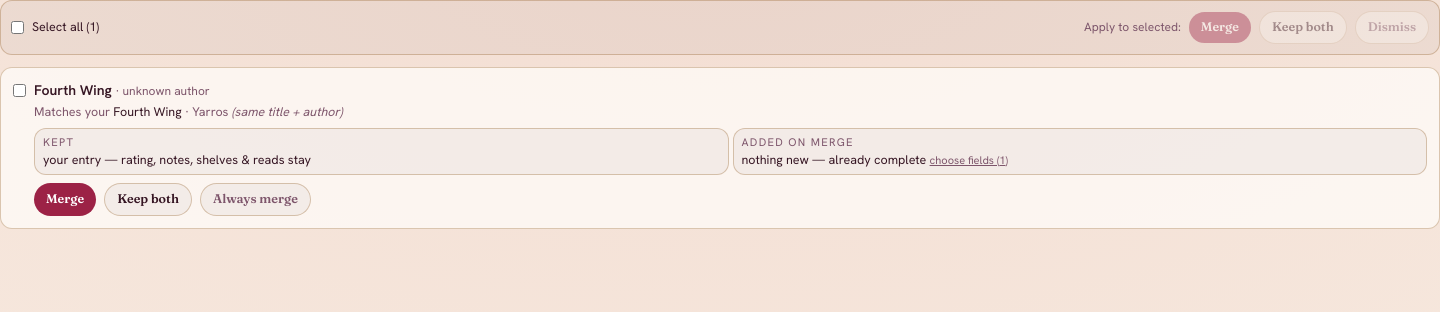
the merge field picker › offers a contested field as an UNCHECKED replace row, stating both values
Click the text "choose fields (1)" at (964, 160), box [930,153,1008,167]
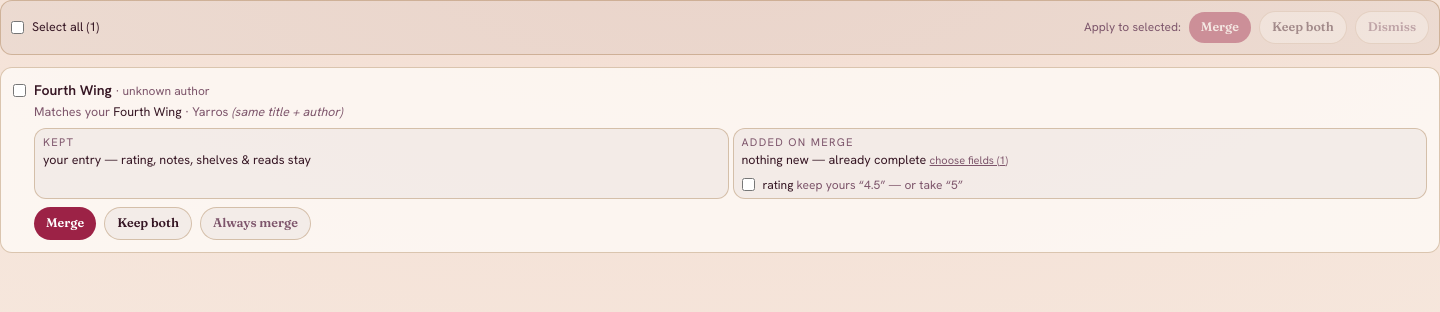
Expected: the checkbox labelled "rating keep yours “4.5” — or take “5”" is not checked, [742,178,754,191]
Expected: the label "rating keep yours “4.5” — or take “5”" is shown, [742,177,963,193]
